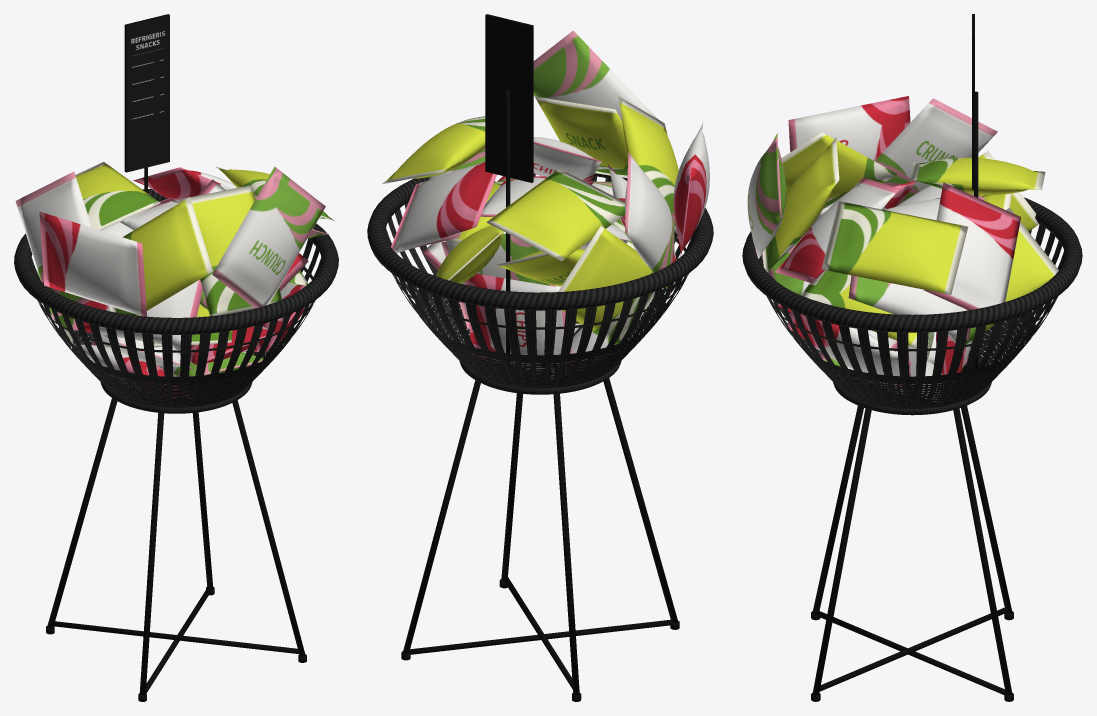
File: better.glb
The picture shows the model from 3 angles, left to right: view 1: azimuth 30°, elevation 25°; view 2: azimuth 150°, elevation 25°; view 3: azimuth 270°, elevation 25°; orthographic projection. The views are drawn at different scales.
Parts seen in each view (by area): view 1: Basket woven cord wall, Snack bag 24, Snack bag 25, Basket rolled rope rim, REFRIGERIS SNACKS sign board, Snack bag 17, Snack bag 23, Snack bag 21, Snack bag 20, Snack bag 13, Stand leg 2, Snack bag 22 (+14 smaller); view 2: Basket woven cord wall, Basket rolled rope rim, REFRIGERIS SNACKS sign board, Snack bag 20, Snack bag 22, Snack bag 24, Snack bag 05, Snack bag 23, Snack bag 21, Snack bag 17, Snack bag 26, Snack bag 01 (+14 smaller); view 3: Basket woven cord wall, Snack bag 26, Basket rolled rope rim, Snack bag 22, Snack bag 21, Snack bag 25, Snack bag 23, Snack bag 20, Snack bag 19, Snack bag 24, Snack bag 17, Snack bag 18 (+13 smaller).
Boxes of the visible parts, x1,y1,x2,y2 form: Basket woven cord wall: (31,239,321,407); Snack bag 24: (212,166,325,308); Snack bag 25: (39,211,146,316); Basket rolled rope rim: (14,189,338,334); REFRIGERIS SNACKS sign board: (124,14,169,172); Snack bag 17: (109,197,212,315); Snack bag 23: (179,185,281,316); Snack bag 21: (15,171,91,319); Snack bag 20: (75,161,160,230); Snack bag 13: (72,279,202,347); Stand leg 2: (139,413,164,695); Snack bag 22: (133,167,236,202); Basket woven cord wall: (385,173,695,388); Basket rolled rope rim: (367,173,713,310); REFRIGERIS SNACKS sign board: (485,14,533,182); Snack bag 20: (486,168,624,261); Snack bag 22: (391,161,496,253); Snack bag 24: (533,30,658,121); Snack bag 05: (558,226,655,344); Snack bag 23: (535,96,627,178); Snack bag 21: (625,152,674,294); Snack bag 17: (618,96,690,240); Snack bag 26: (381,116,485,184); Snack bag 01: (465,273,572,374); Basket woven cord wall: (760,224,1064,408); Snack bag 26: (821,201,968,294); Basket rolled rope rim: (742,197,1082,332); Snack bag 22: (924,182,1020,310); Snack bag 21: (875,98,997,202); Snack bag 25: (788,96,910,160); Snack bag 23: (762,137,839,272); Snack bag 20: (910,157,1045,194); Snack bag 19: (775,177,899,283); Snack bag 24: (747,133,786,258); Snack bag 17: (781,132,897,208); Snack bag 18: (848,275,970,340).
Bounding box in the file's own units: 0.642 × 1.32 × 0.642.
9 materials, 6 textured.
